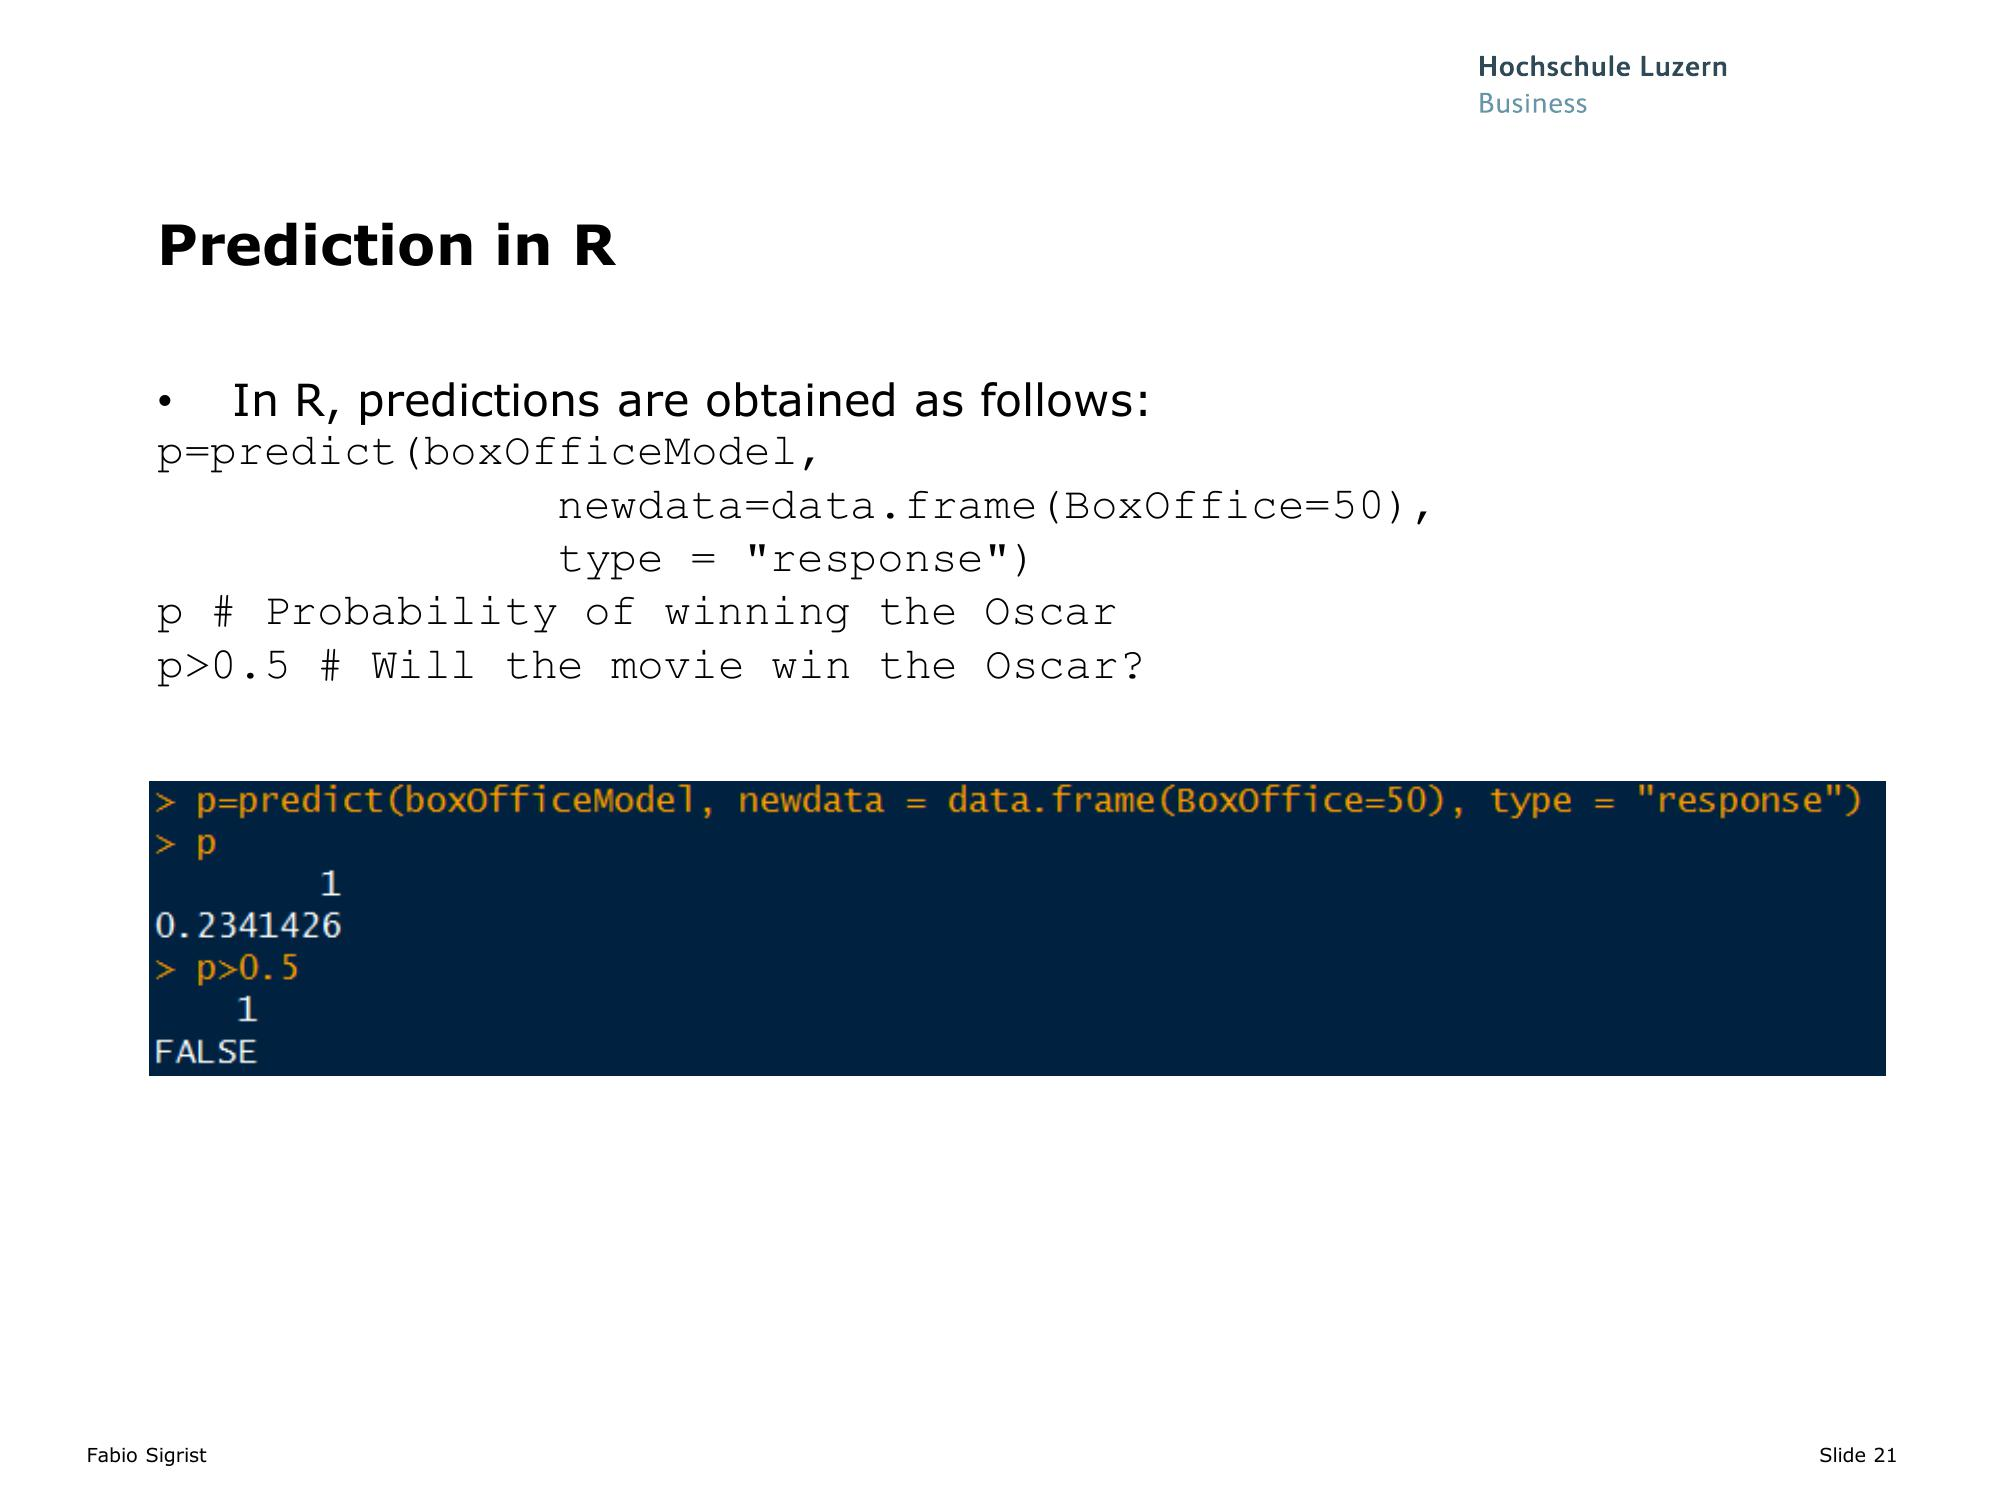Title: (109, 203, 636, 284)
